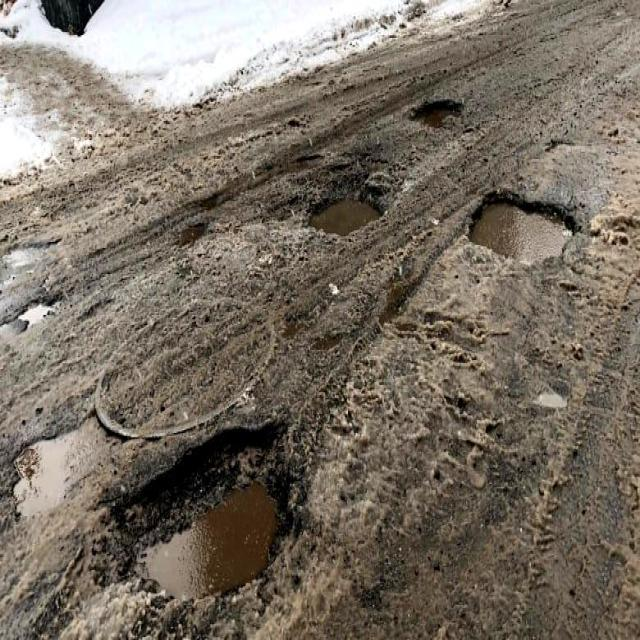pothole: (123, 421, 299, 616), (6, 421, 120, 524), (464, 186, 581, 270), (300, 191, 382, 241), (408, 96, 464, 134), (15, 294, 60, 330)
